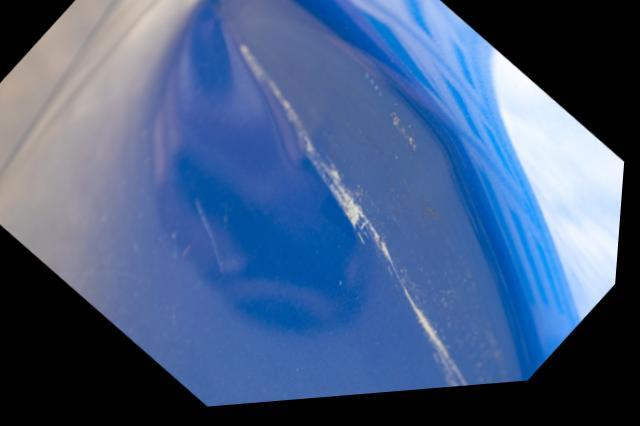dent: (152, 0, 429, 343)
